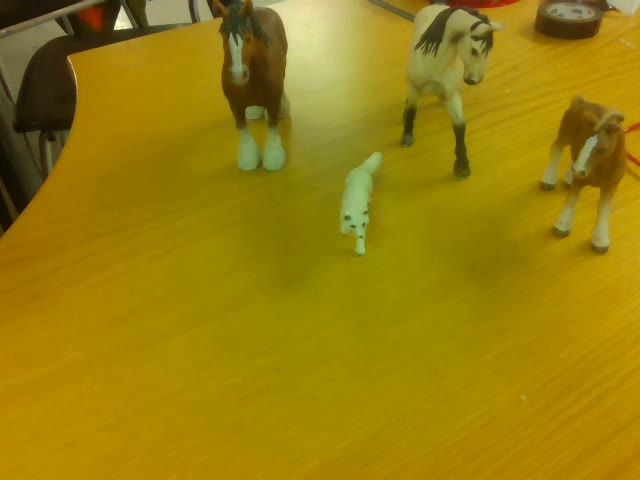toy: (396, 1, 504, 179), (542, 93, 628, 257), (210, 1, 289, 171), (334, 153, 384, 258)
